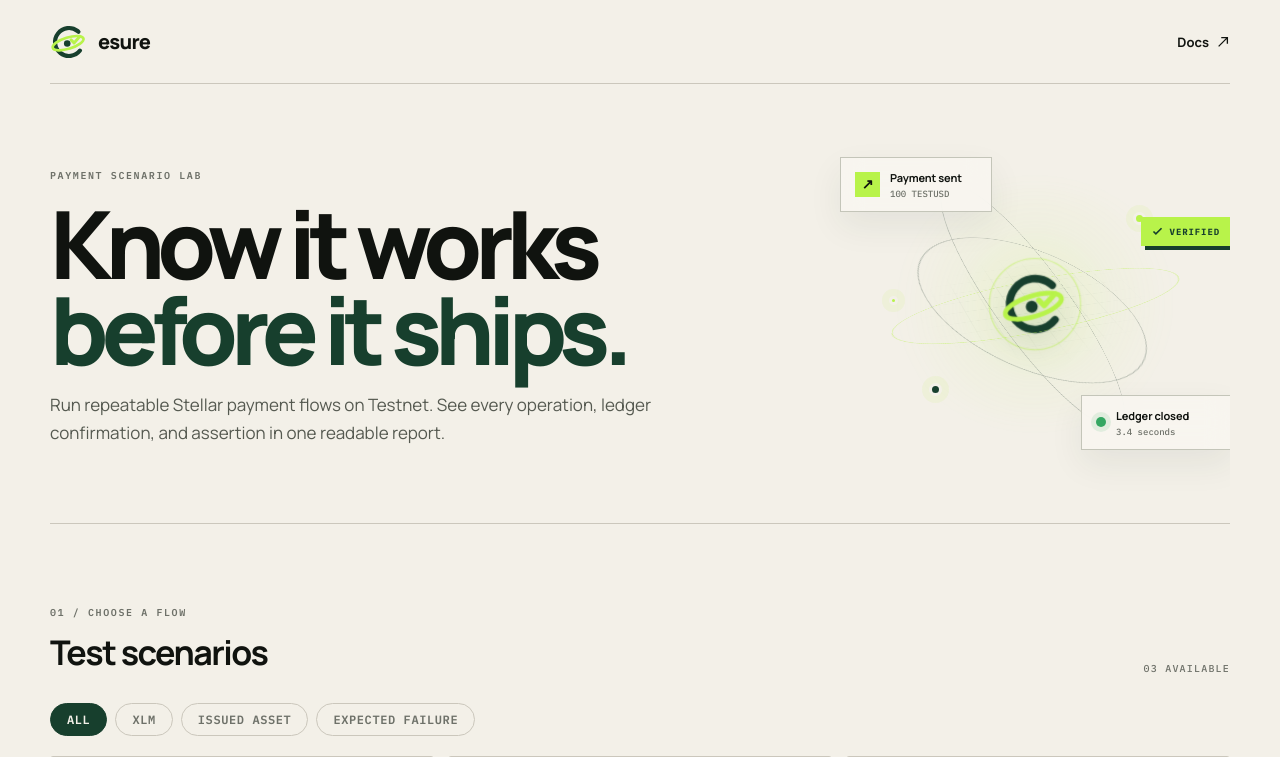
Test case: Dashboard component scenario filtering › filters scenarios when clicking 'Expected Failure'
Expected: the text "03 AVAILABLE" is shown, [1144,662,1230,675]
Click the tab "Expected Failure": (396, 720) [316,703,475,736]
(page scrolled)
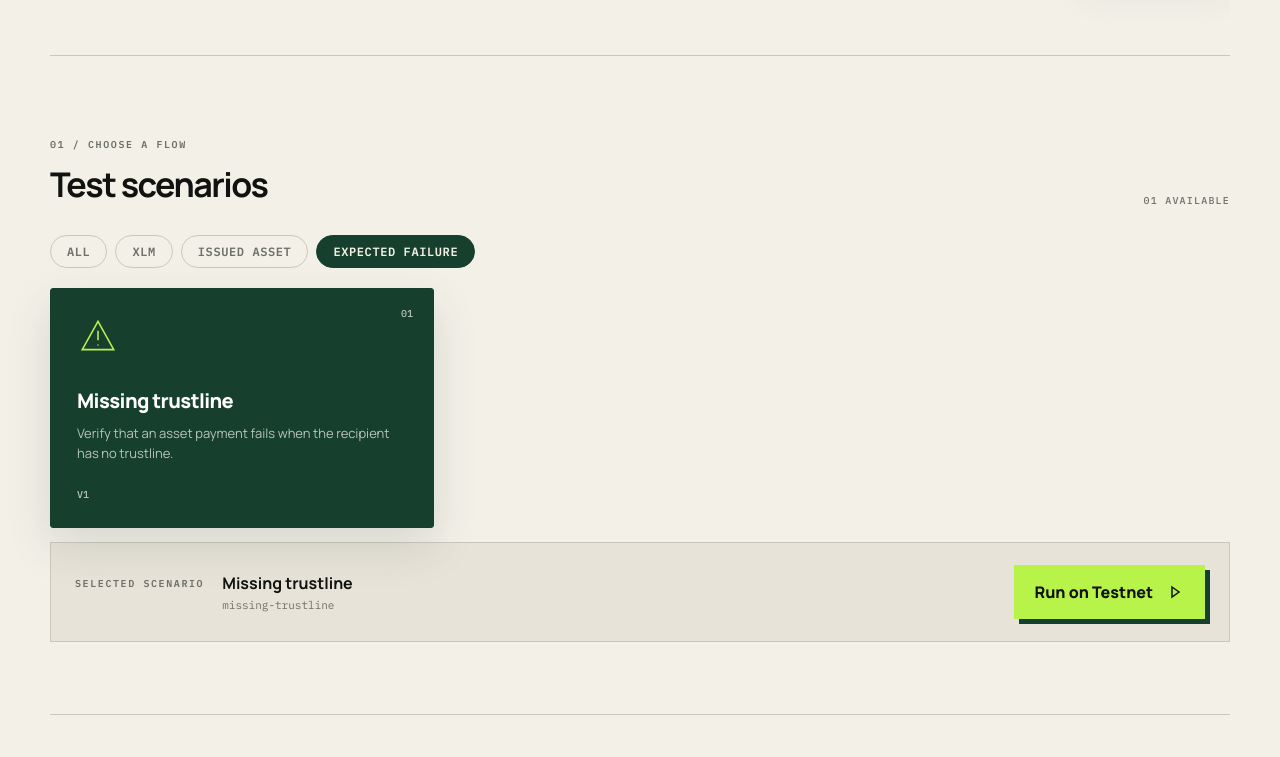
Expected: the 1st text "Missing trustline" is shown, [77,387,233,414]
Expected: the text "01 AVAILABLE" is shown, [1144,194,1230,207]
